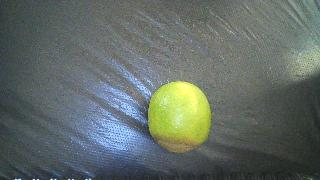DESECHO: (148, 81, 211, 153)
